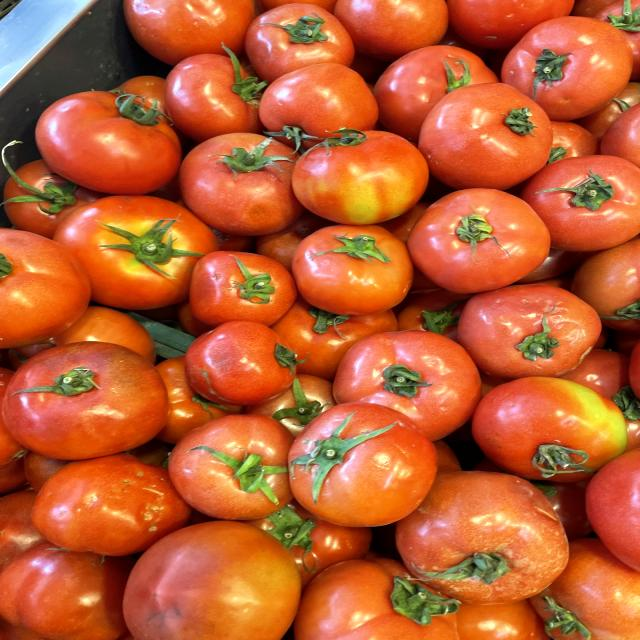tomato: (39, 192, 228, 309), (277, 400, 443, 527), (7, 335, 175, 460), (401, 179, 556, 300), (34, 87, 194, 196), (416, 76, 568, 190), (288, 115, 432, 230), (178, 114, 318, 230), (179, 242, 309, 334), (180, 315, 307, 408), (151, 45, 273, 132), (235, 1, 361, 77)
